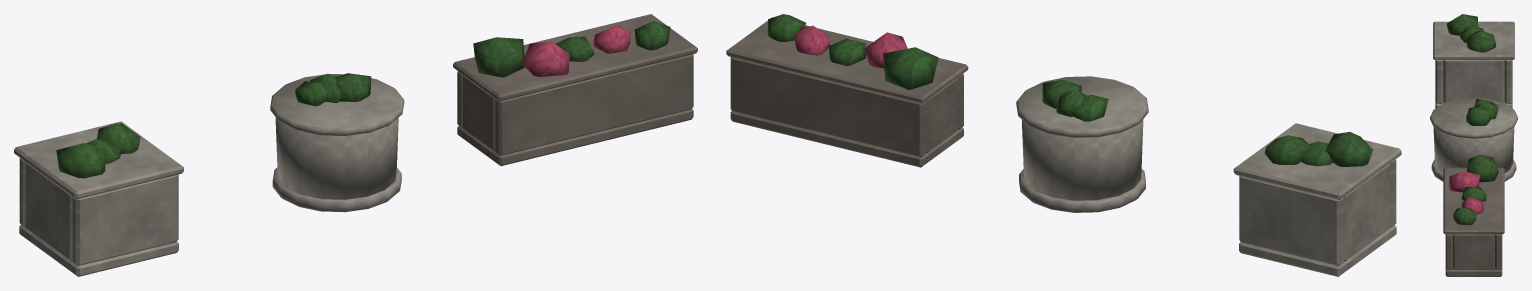
The model's file is planter.glb.
3 views of the same model, side by side, from view 1: azimuth 30°, elevation 25°; view 2: azimuth 150°, elevation 25°; view 3: azimuth 270°, elevation 25° (orthographic). The views are drawn at different scales.
Parts seen in each view (by area): view 1: planter_v3, planter_v1, planter_v2; view 2: planter_v3, planter_v1, planter_v2; view 3: planter_v3, planter_v1, planter_v2.
Boxes of the visible parts, x1,y1,x2,y2 form: planter_v3: [453, 14, 697, 165]; planter_v1: [14, 121, 183, 276]; planter_v2: [270, 73, 404, 212]; planter_v3: [726, 14, 968, 167]; planter_v1: [1233, 123, 1401, 276]; planter_v2: [1016, 76, 1148, 212]; planter_v3: [1443, 154, 1504, 276]; planter_v1: [1433, 14, 1514, 108]; planter_v2: [1430, 98, 1517, 181].
Size of the model in its own units: 5.83 by 1 by 1.08.
2 materials, 2 textured.
